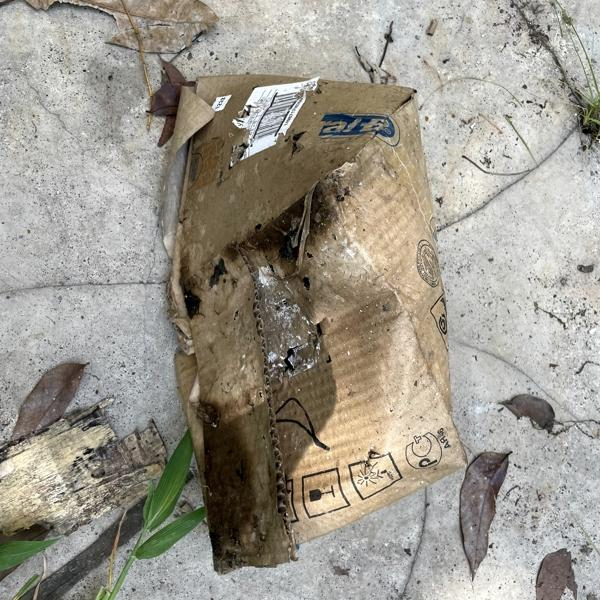Organik: (160, 64, 471, 586)
